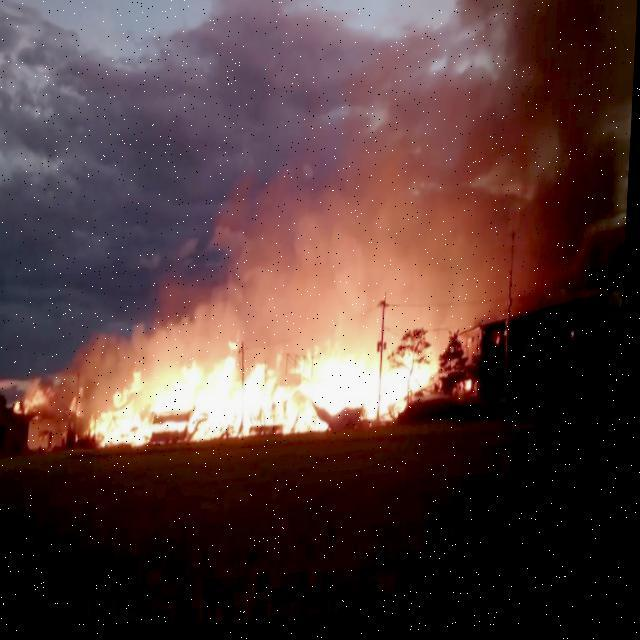Fire: (90, 326, 448, 454), (16, 379, 55, 419), (71, 384, 90, 418), (469, 384, 476, 399)
